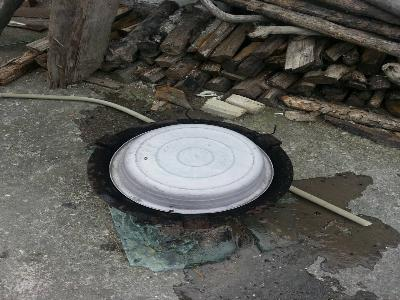bowl: (84, 116, 297, 226), (107, 122, 274, 215)
